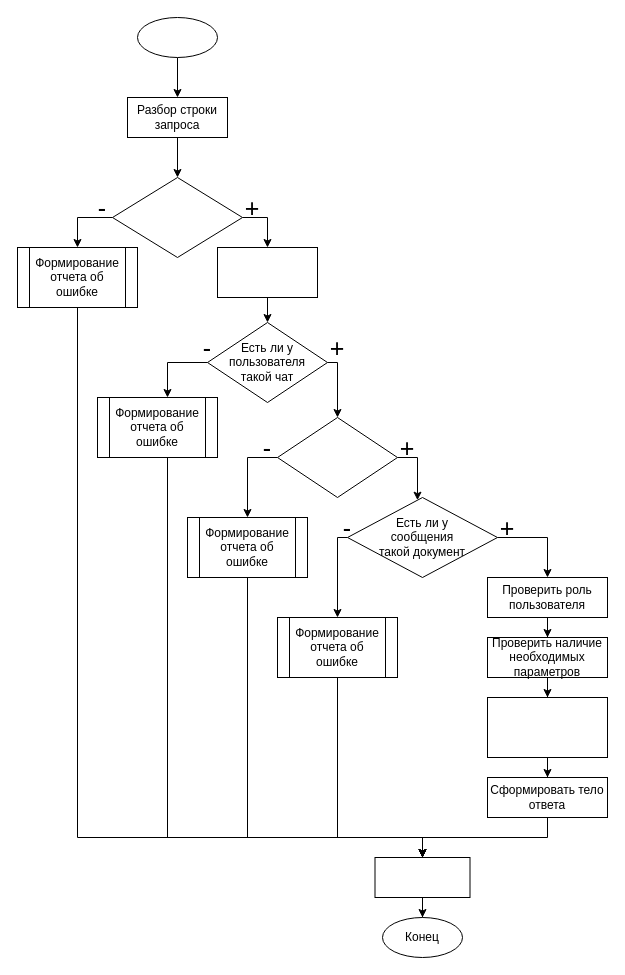
This 625x975 diagram has some shape labels left out. The centre of each missing label's shape, as x and y in pixels:
Возврат результата: the point at 422,877
Выбрать обработчик запроса: the point at 267,272
Есть ли в чате такое сообщение: the point at 337,457
Начало: the point at 177,37
Существует ли такой пользователь: the point at 177,217
Установить необходимые дополнительные данные: the point at 547,727
